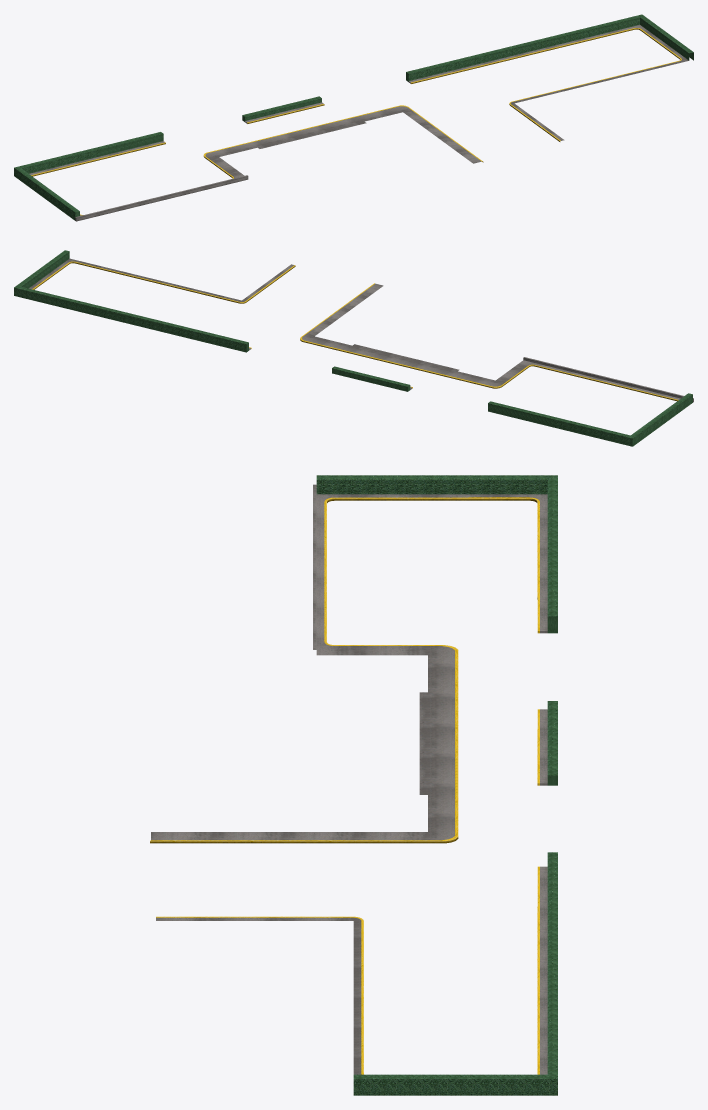
The model's file is vgnlowwall1.obj.
The picture shows the model from 3 angles, top to bottom: view 1: azimuth 30°, elevation 25°; view 2: azimuth 150°, elevation 25°; view 3: azimuth 270°, elevation 25°; orthographic projection. The views are drawn at different scales.
Visible parts, largest first — view 1: vgnlowwall1; view 2: vgnlowwall1; view 3: vgnlowwall1.
Boxes of the visible parts, x1=… form: vgnlowwall1: x1=14, y1=14, x2=693, y2=221; vgnlowwall1: x1=14, y1=250, x2=693, y2=446; vgnlowwall1: x1=150, y1=475, x2=557, y2=1095.
Bounding box in the file's own units: 140 × 1.8 × 39.96.
3 materials, 3 textured.
